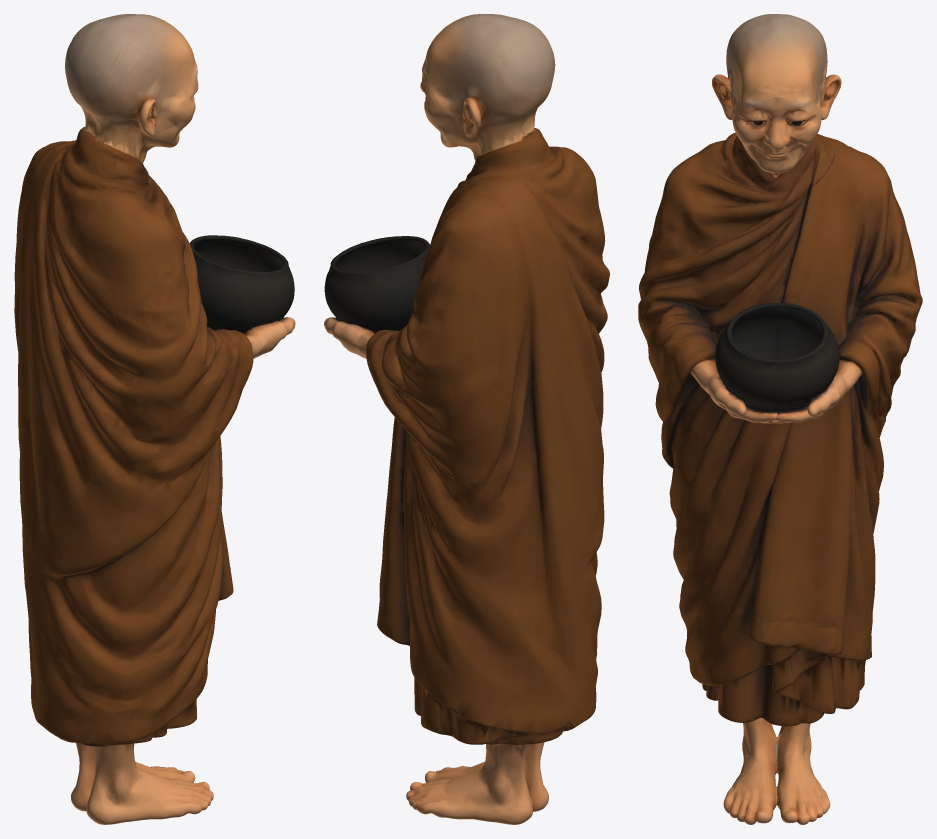
Rendered from alms-elder.glb.
The picture shows the model from 3 angles, left to right: view 1: azimuth 30°, elevation 25°; view 2: azimuth 150°, elevation 25°; view 3: azimuth 270°, elevation 25°; orthographic projection. The views are drawn at different scales.
Visible parts, largest first — view 1: tripo_node_b5de8ba7-ed03-427a-bf84-d70dc23b7dec; view 2: tripo_node_b5de8ba7-ed03-427a-bf84-d70dc23b7dec; view 3: tripo_node_b5de8ba7-ed03-427a-bf84-d70dc23b7dec.
Part boxes in pixels (x1,y1,x2,y2): tripo_node_b5de8ba7-ed03-427a-bf84-d70dc23b7dec: [14, 14, 295, 824]; tripo_node_b5de8ba7-ed03-427a-bf84-d70dc23b7dec: [324, 14, 609, 824]; tripo_node_b5de8ba7-ed03-427a-bf84-d70dc23b7dec: [638, 14, 922, 824].
Bounding box in the file's own units: 0.3321 × 0.9997 × 0.334.
Materials: 1 (1 with a texture image).
